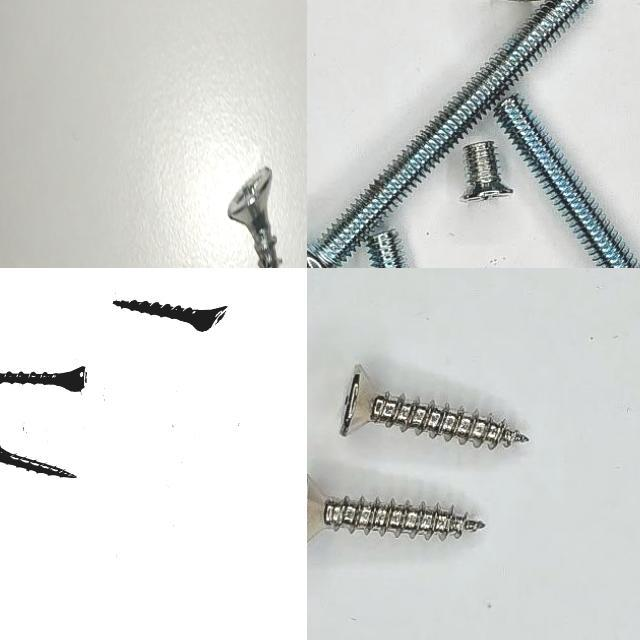Screw: (307, 0, 594, 268), (494, 95, 640, 268), (340, 366, 528, 449), (307, 476, 485, 544), (228, 167, 282, 268), (115, 299, 229, 331), (461, 141, 513, 202), (0, 440, 78, 478), (0, 366, 88, 392)
